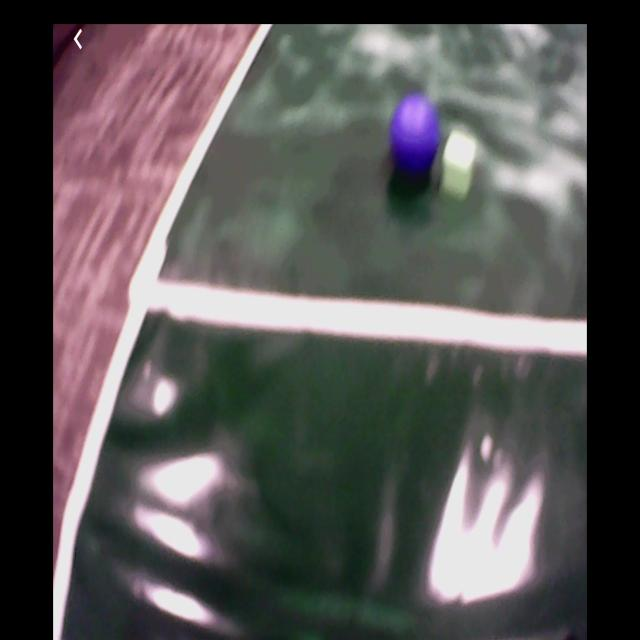ball: (392, 95, 441, 174)
